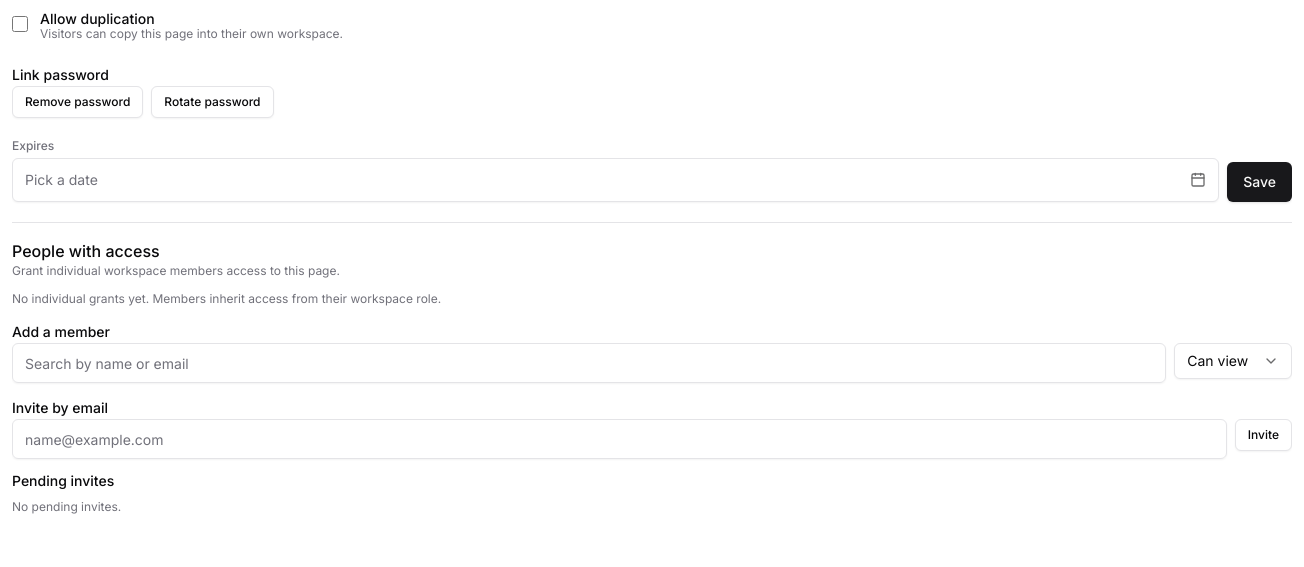
Test: <SharePanel> rotate password (v0.9.0 G6 P33) › falls back to inline reveal when clipboard write fails
Click the button "Rotate password". click: (212, 102)
box: [151,86,274,118]
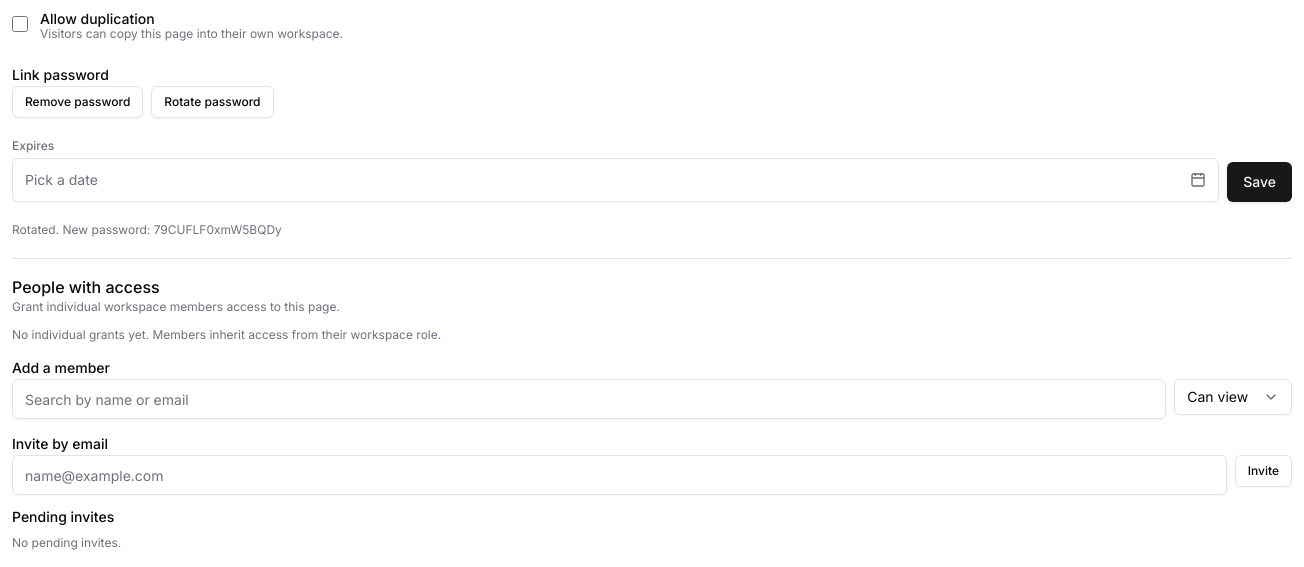
Check: the text "Rotated. New password:" is shown, box [12,222,282,237]
